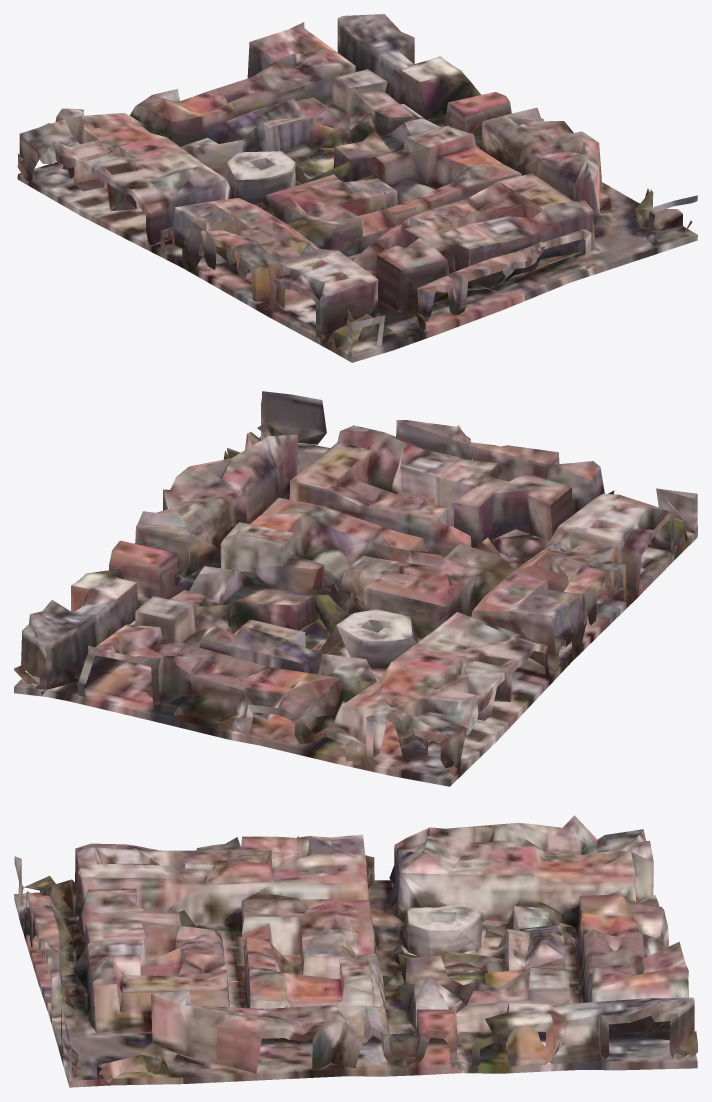
3 renders of one model, top to bottom at view 1: azimuth 30°, elevation 25°; view 2: azimuth 150°, elevation 25°; view 3: azimuth 270°, elevation 25°, orthographic. The views are drawn at different scales.
Visible parts, largest first — view 1: Mesh_0; view 2: Mesh_0; view 3: Mesh_0.
Boxes of the visible parts, x1,y1,x2,y2 form: Mesh_0: (17,14,697,362); Mesh_0: (14,391,697,786); Mesh_0: (14,815,697,1087).
Bounding box in the file's own units: 269 × 48.03 × 330.
Materials: 1 (1 with a texture image).
